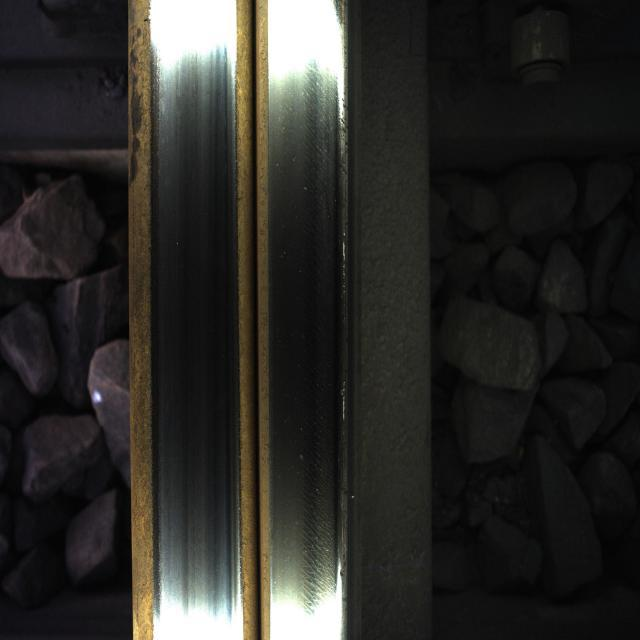break: (145, 10, 246, 590), (262, 24, 350, 588)
